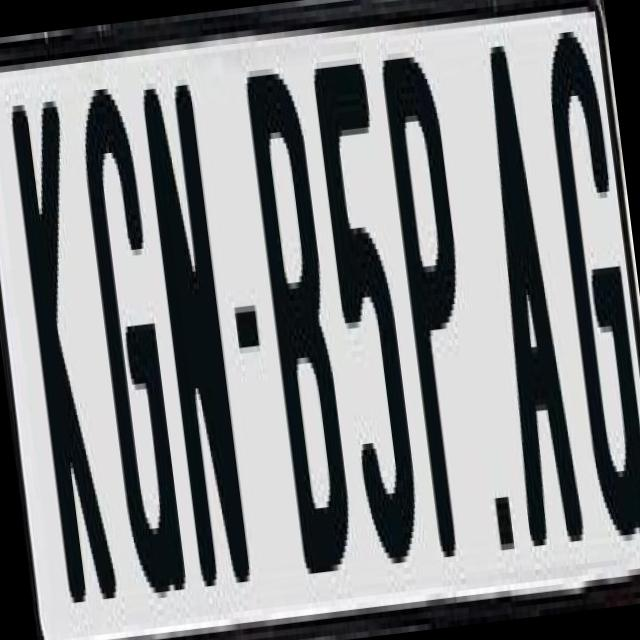5: (306, 46, 422, 584)
A: (467, 37, 587, 576)
B: (242, 59, 362, 592)
G: (72, 68, 192, 612), (536, 12, 640, 549)
K: (4, 89, 116, 603)
N: (141, 84, 256, 622)
P: (376, 54, 492, 581)
